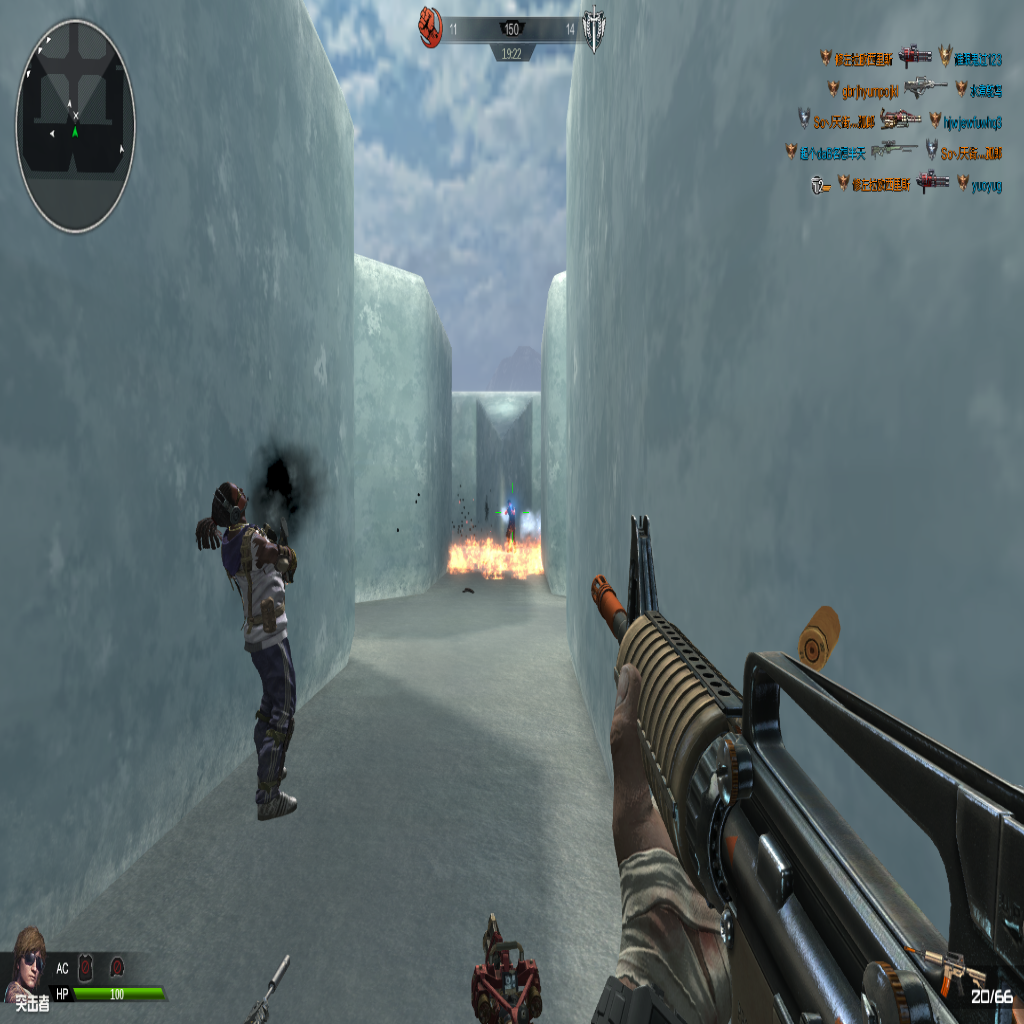tt: (191, 479, 305, 817)
